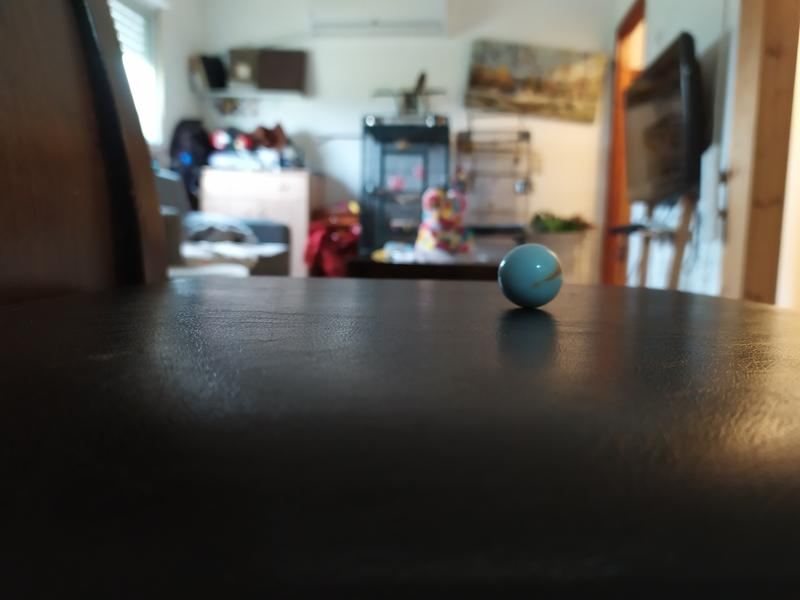Warning: (496, 242, 565, 310)
